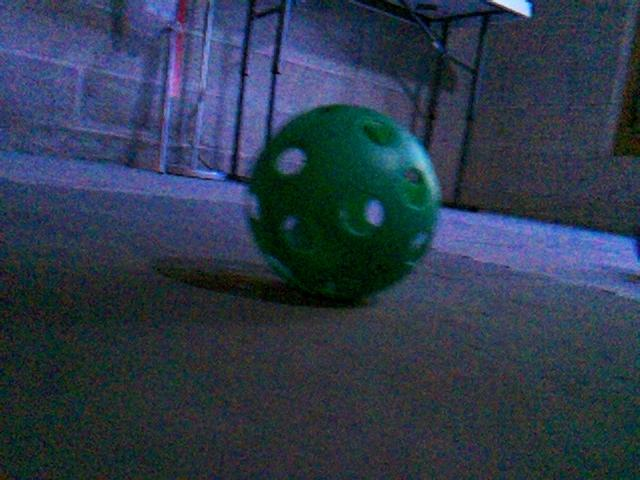Green: (242, 100, 446, 304)
